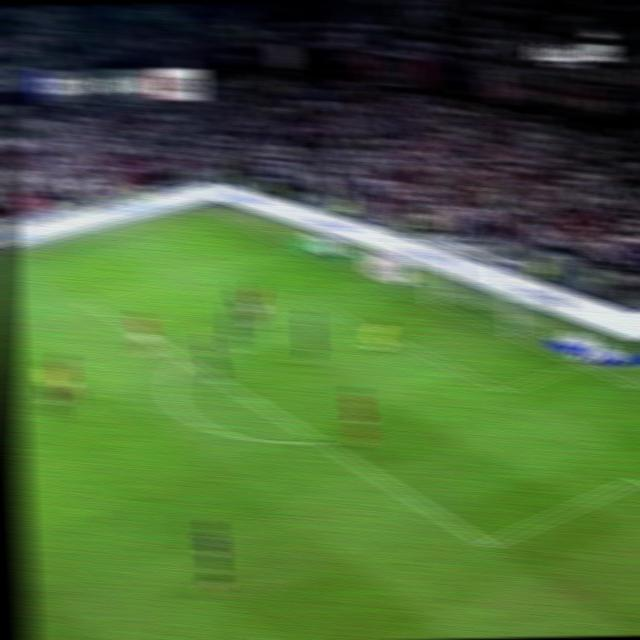bigarea_bottom_inner: (473, 530, 502, 558)
bigarea_top_inner: (82, 297, 103, 311)
bigarea_top_outter: (283, 241, 302, 251), (287, 243, 304, 250)
bottom_arc_area_intersection: (307, 432, 332, 451)
corner: (195, 207, 215, 213)
smallarea_bottom_inner: (494, 381, 518, 398)
smallarea_bottom_outter: (569, 358, 588, 368)
smallarea_top_inner: (309, 298, 329, 308)
top_arc_area_intersection: (173, 350, 195, 366)
